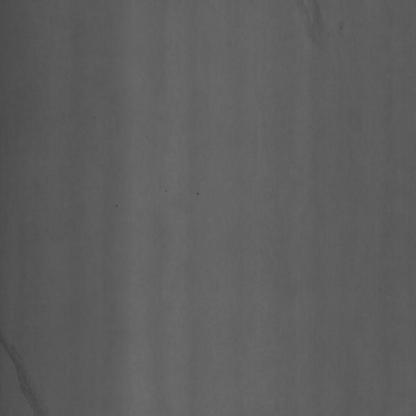water_spot: (0, 326, 47, 413), (293, 1, 336, 72)
